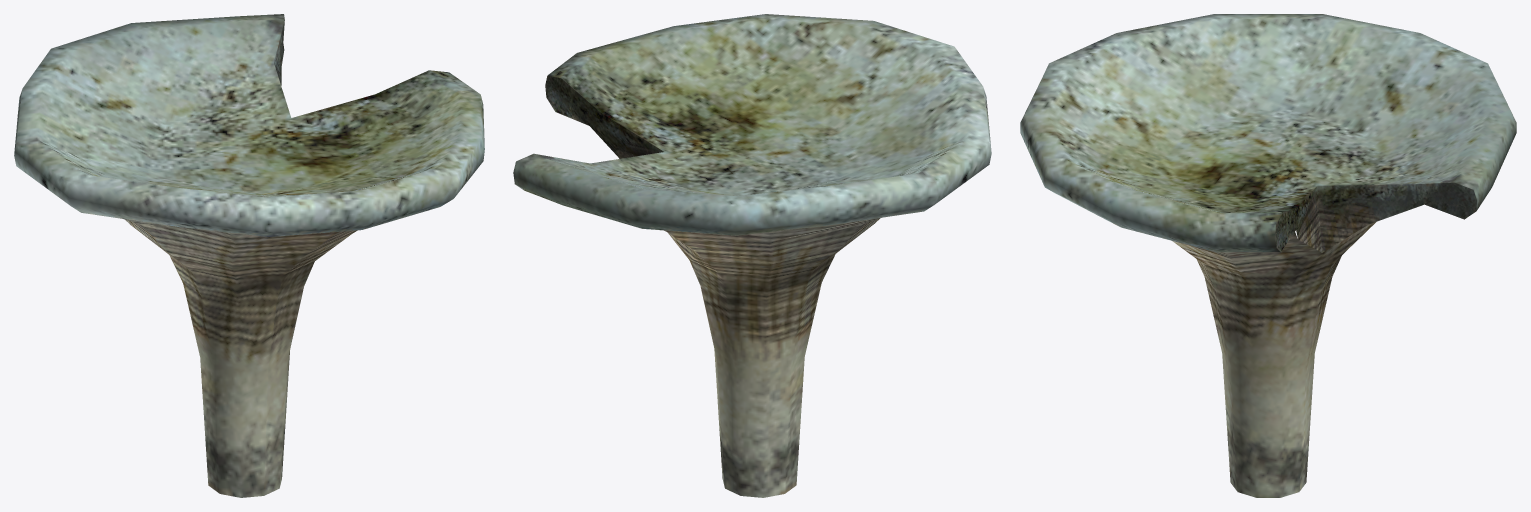
Rendered from PW_Plant_Mushroom_01_06.glb.
3 views of the same model, side by side, from view 1: azimuth 30°, elevation 25°; view 2: azimuth 150°, elevation 25°; view 3: azimuth 270°, elevation 25° (orthographic).
Parts seen in each view (by area): view 1: PW_Plants_Mushrooms_6_LOD0; view 2: PW_Plants_Mushrooms_6_LOD0; view 3: PW_Plants_Mushrooms_6_LOD0.
Part boxes in pixels (<box>): PW_Plants_Mushrooms_6_LOD0: <box>14,14,484,497</box>; PW_Plants_Mushrooms_6_LOD0: <box>513,14,991,497</box>; PW_Plants_Mushrooms_6_LOD0: <box>1020,14,1516,497</box>.
Bounding box in the file's own units: 0.2332 × 0.2026 × 0.2401.
1 material, 1 textured.
